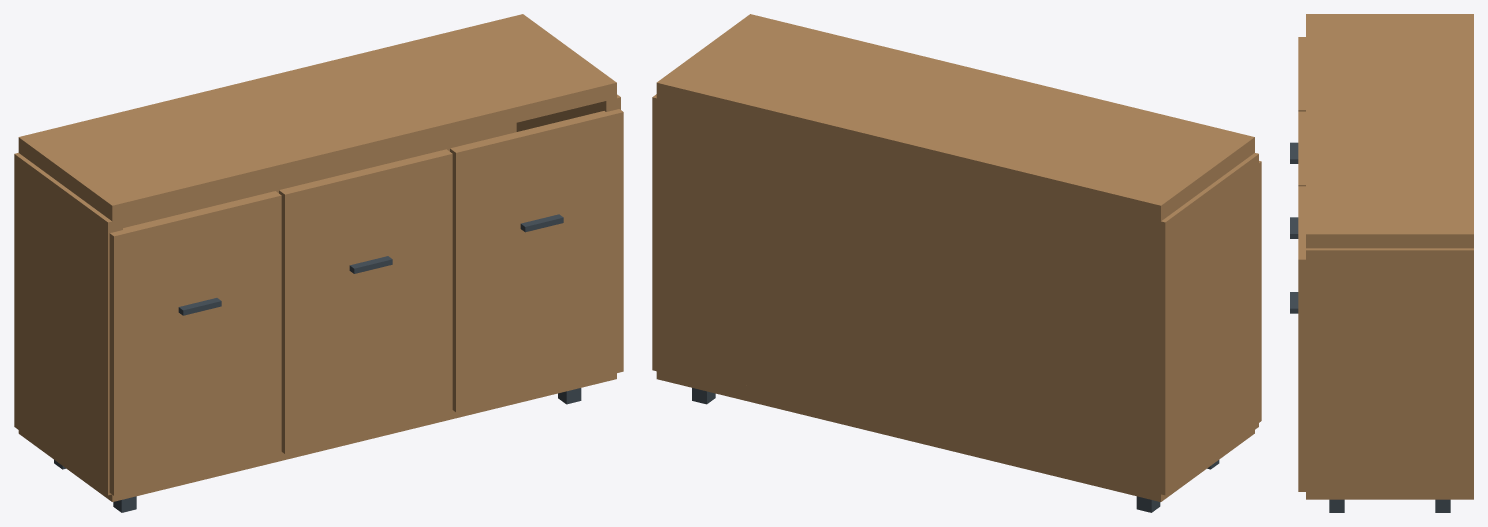
The model's file is storage-1.glb.
3 views of the same model, side by side, from view 1: azimuth 30°, elevation 25°; view 2: azimuth 150°, elevation 25°; view 3: azimuth 270°, elevation 25° (orthographic). The views are drawn at different scales.
Parts seen in each view (by area): view 1: storage:1:editor; view 2: storage:1:editor; view 3: storage:1:editor.
Boxes of the visible parts, x1=… form: storage:1:editor: x1=14, y1=14, x2=623, y2=512; storage:1:editor: x1=652, y1=14, x2=1261, y2=512; storage:1:editor: x1=1290, y1=14, x2=1473, y2=512.
Bounding box in the file's own units: 1.2 × 0.72 × 0.416.
